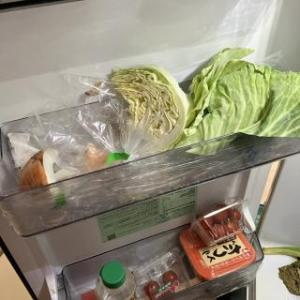cabbage: (109, 46, 300, 154)
onion: (20, 148, 60, 196)
